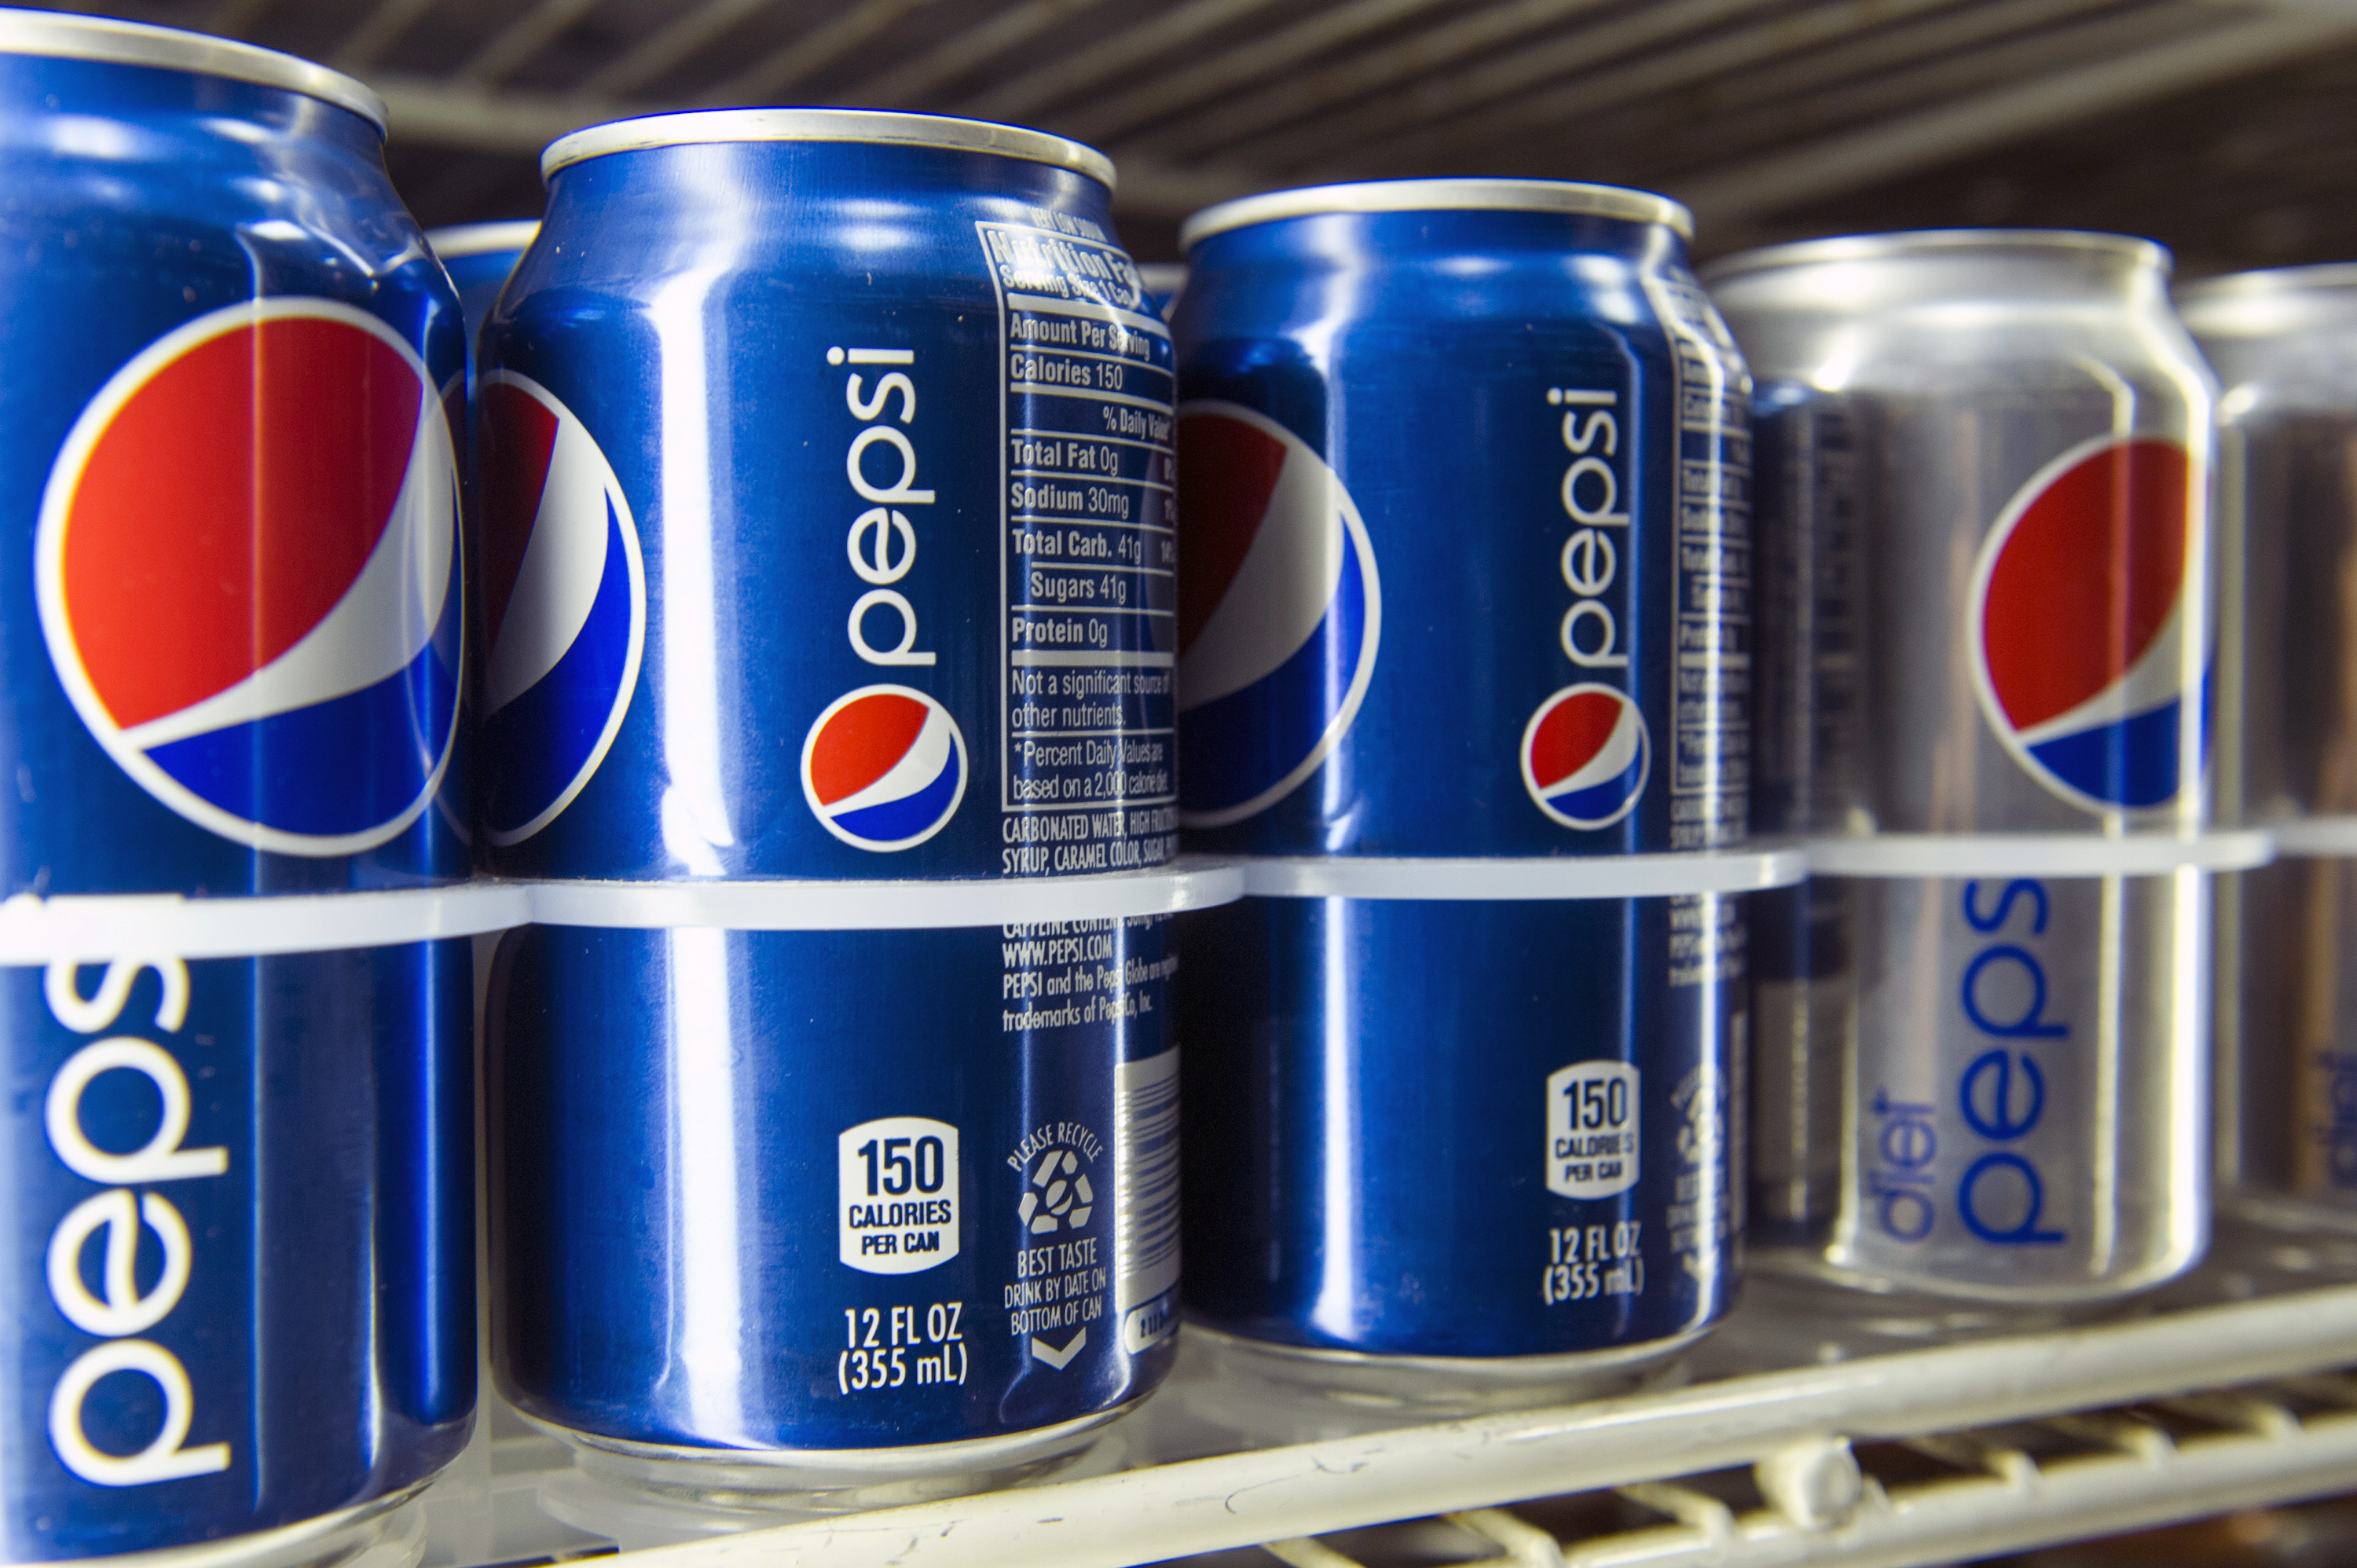pepsi: (42, 297, 465, 849), (1169, 390, 1384, 845), (1962, 416, 2191, 829), (464, 357, 646, 844), (779, 674, 971, 842), (796, 674, 971, 842), (1517, 665, 1654, 829)
